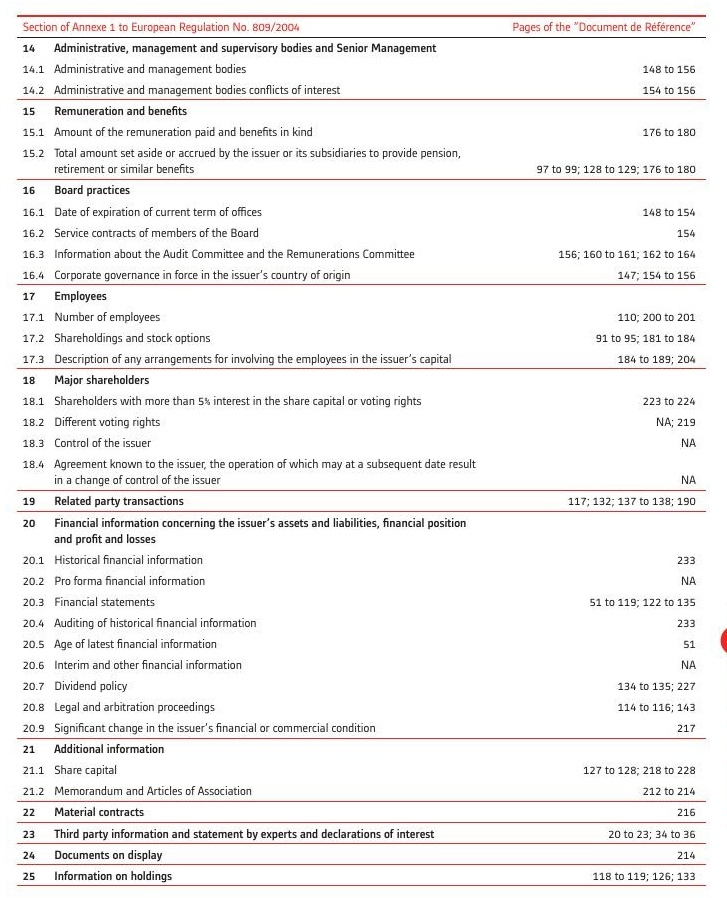table: (0, 0, 727, 898)
